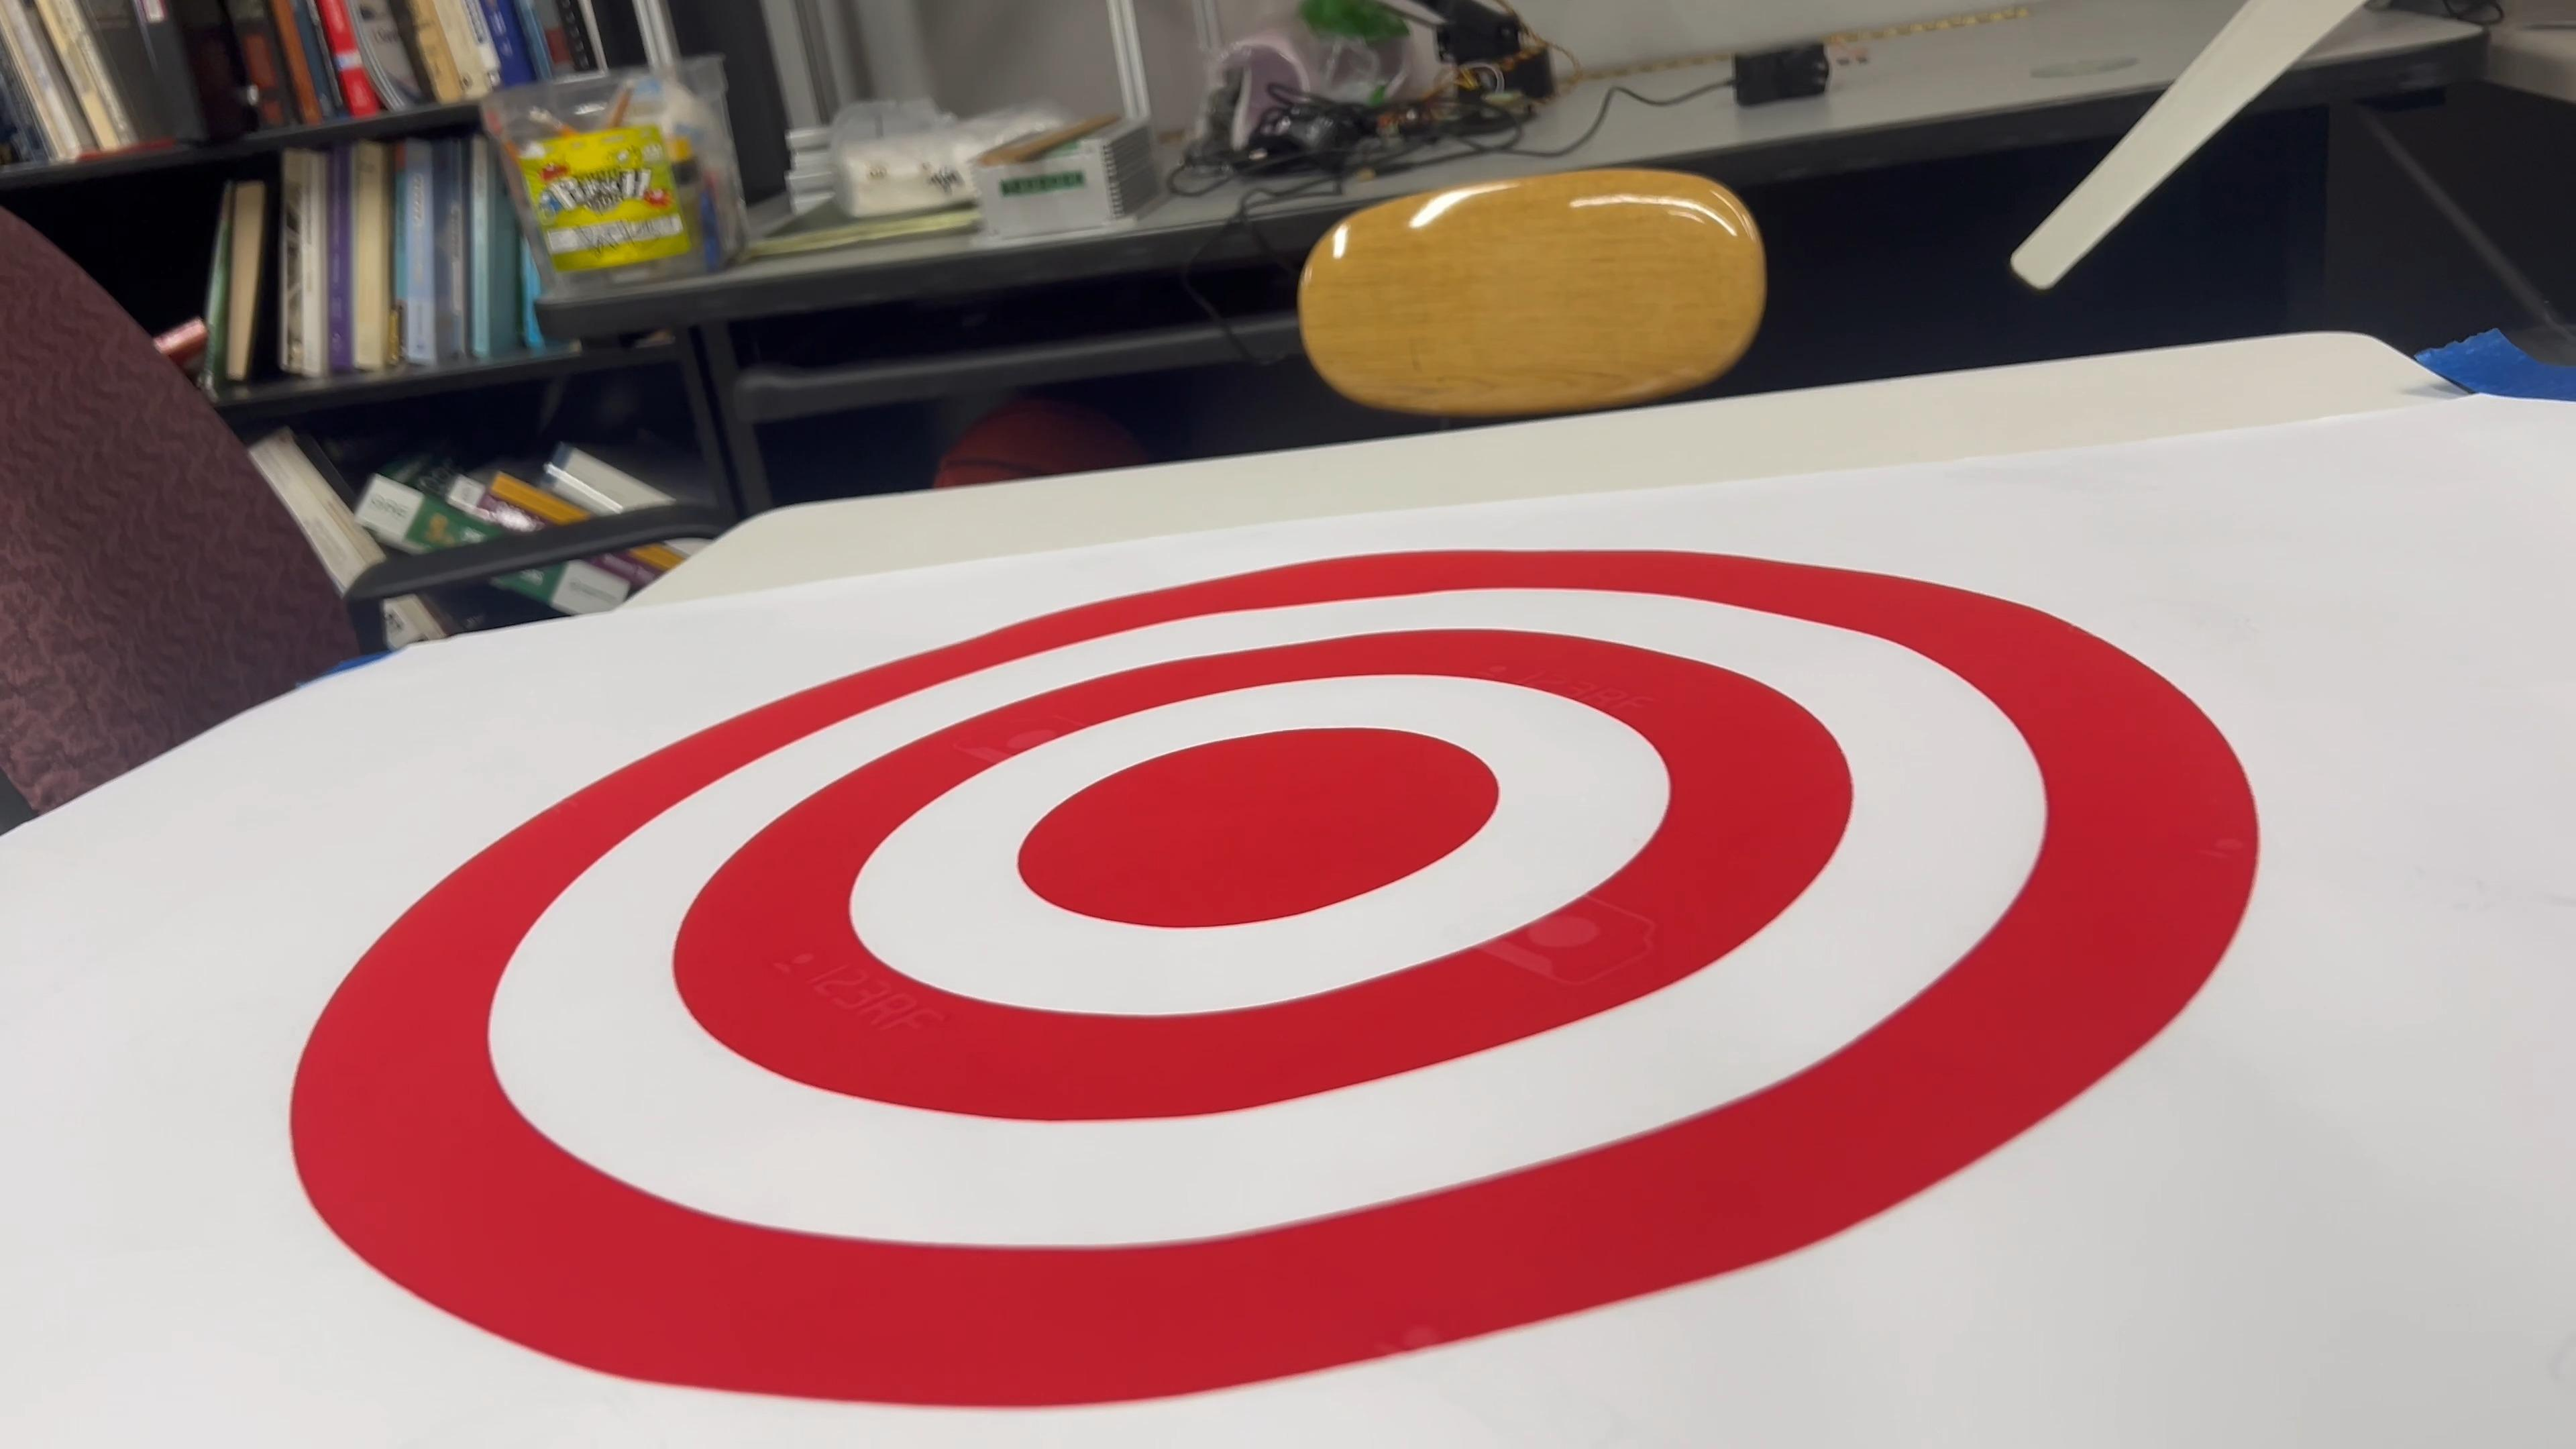target_red: (272, 527, 2273, 1422)
